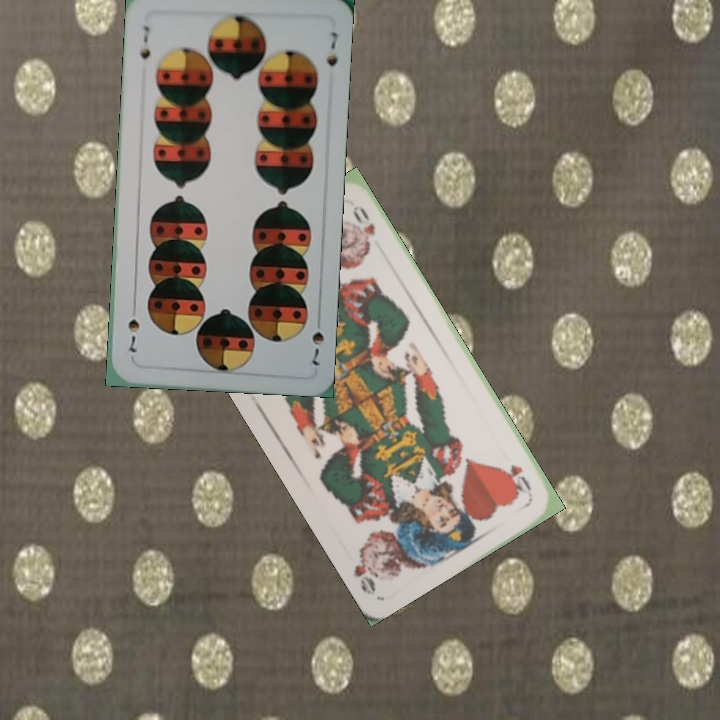HO: (500, 460, 534, 495)
S7: (306, 311, 327, 368), (136, 22, 153, 62)
